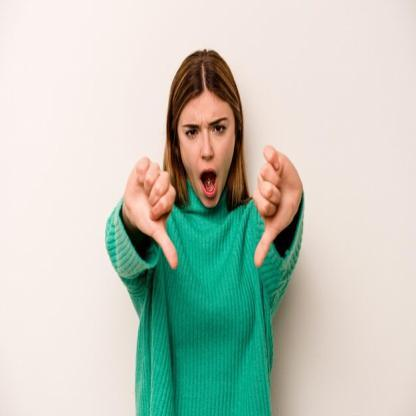thumb_down: (249, 141, 302, 269), (124, 150, 180, 271)
